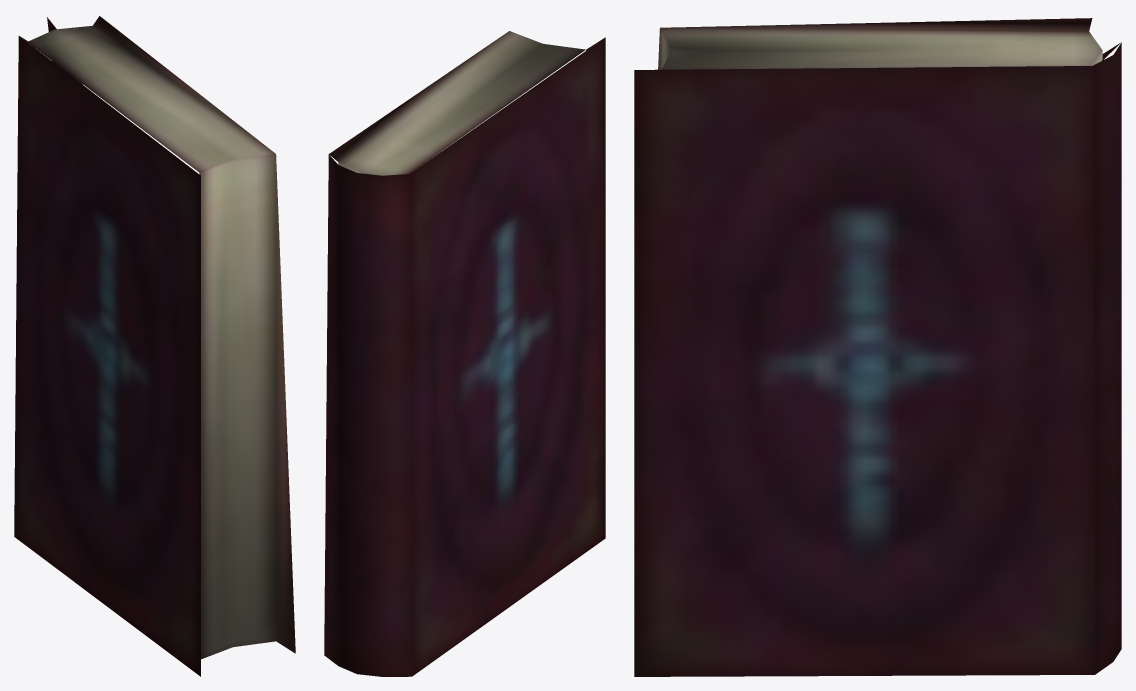
The model's file is clericBook.glb.
3 renders of one model, left to right at view 1: azimuth 30°, elevation 25°; view 2: azimuth 150°, elevation 25°; view 3: azimuth 270°, elevation 25°, orthographic. The views are drawn at different scales.
Parts seen in each view (by area): view 1: clericBook; view 2: clericBook; view 3: clericBook.
Boxes of the visible parts, left/top/right/bottom form: clericBook: left=14, top=16, right=295, bottom=676; clericBook: left=324, top=31, right=605, bottom=676; clericBook: left=634, top=18, right=1121, bottom=676.
Size of the model in its own units: 0.0735 by 0.3713 by 0.2703.
1 material, 1 textured.
